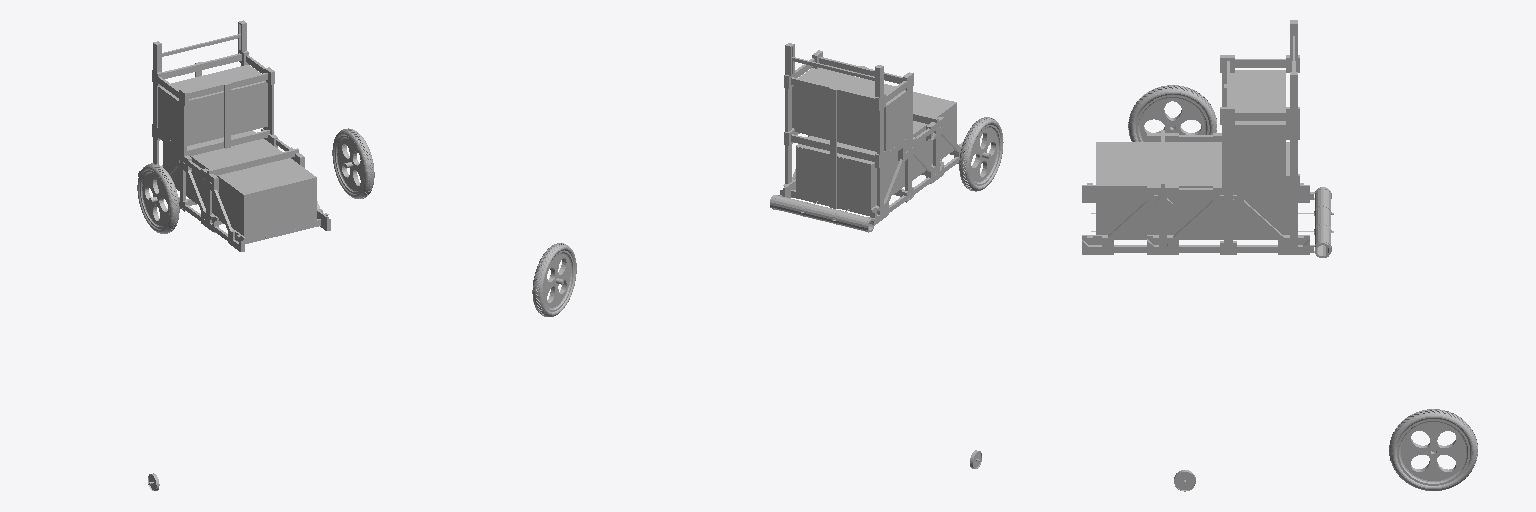
robot.urdf — igv__model:
<?xml version="1.0" encoding="utf-8"?>
<!-- This URDF was automatically created by SolidWorks to URDF Exporter! Originally created by [author] ([email redacted]) 
     Commit Version: 1.5.1-0-g916b5db  Build Version: 1.5.7152.31018
     For more information, please see http://wiki.ros.org/sw_urdf_exporter -->
<robot
  name="igv__model">
  <link
    name="base_link">
    <inertial>
      <origin
        xyz="0.611594942570263 0.901280819914967 0.66978157390554"
        rpy="0 0 0" />
      <mass
        value="53.786996865262" />
      <inertia
        ixx="2.65154052231408"
        ixy="2.74635736940795E-08"
        ixz="3.31822311322078E-08"
        iyy="3.3683116234887"
        iyz="0.00211852268869227"
        izz="1.73267246165109" />
    </inertial>
    <visual>
      <origin
        xyz="0 0 0"
        rpy="0 0 0" />
      <geometry>
        <mesh
          filename="package://igv__model/meshes/base_link.STL" />
      </geometry>
      <material
        name="">
        <color
          rgba="0.752941176470588 0.752941176470588 0.752941176470588 1" />
      </material>
    </visual>
    <collision>
      <origin
        xyz="0 0 0"
        rpy="0 0 0" />
      <geometry>
        <mesh
          filename="package://igv__model/meshes/base_link.STL" />
      </geometry>
    </collision>
  </link>
  <link
    name="wL">
    <inertial>
      <origin
        xyz="-0.000320615714433203 2.66762272949084E-06 2.05391259555654E-15"
        rpy="0 0 0" />
      <mass
        value="4.52967252160995" />
      <inertia
        ixx="0.12384573320679"
        ixy="3.21146348067842E-08"
        ixz="-1.59354057853947E-17"
        iyy="0.0627755197188864"
        iyz="5.26885789082967E-07"
        izz="0.0627755406329626" />
    </inertial>
    <visual>
      <origin
        xyz="0 0 0"
        rpy="0 0 0" />
      <geometry>
        <mesh
          filename="package://igv__model/meshes/wL.STL" />
      </geometry>
      <material
        name="">
        <color
          rgba="0.752941176470588 0.752941176470588 0.752941176470588 1" />
      </material>
    </visual>
    <collision>
      <origin
        xyz="0 0 0"
        rpy="0 0 0" />
      <geometry>
        <mesh
          filename="package://igv__model/meshes/wL.STL" />
      </geometry>
    </collision>
  </link>
  <joint
    name="wL"
    type="revolute">
    <origin
      xyz="0.20862 -0.28297 0.6883"
      rpy="-1.6617 0 3.1416" />
    <parent
      link="base_link" />
    <child
      link="wL" />
    <axis
      xyz="-1 0 0" />
    <limit
      lower="0"
      upper="0"
      effort="0"
      velocity="0" />
  </joint>
  <link
    name="wR">
    <inertial>
      <origin
        xyz="-0.000320615469261432 2.6676200137743E-06 1.4432899320127E-15"
        rpy="0 0 0" />
      <mass
        value="4.52967714432559" />
      <inertia
        ixx="0.123845078210674"
        ixy="3.21146424226112E-08"
        ixz="-2.70080093172368E-16"
        iyy="0.0627751904020829"
        iyz="5.26844366386531E-07"
        izz="0.0627752118408753" />
    </inertial>
    <visual>
      <origin
        xyz="0 0 0"
        rpy="0 0 0" />
      <geometry>
        <mesh
          filename="package://igv__model/meshes/wR.STL" />
      </geometry>
      <material
        name="">
        <color
          rgba="0.752941176470588 0.752941176470588 0.752941176470588 1" />
      </material>
    </visual>
    <collision>
      <origin
        xyz="0 0 0"
        rpy="0 0 0" />
      <geometry>
        <mesh
          filename="package://igv__model/meshes/wR.STL" />
      </geometry>
    </collision>
  </link>
  <joint
    name="wR"
    type="revolute">
    <origin
      xyz="1.0146 -0.28297 0.6883"
      rpy="-2.7498 0 0" />
    <parent
      link="base_link" />
    <child
      link="wR" />
    <axis
      xyz="1 0 0" />
    <limit
      lower="0"
      upper="0"
      effort="0"
      velocity="0" />
  </joint>
  <link
    name="cL">
    <inertial>
      <origin
        xyz="0 0 0"
        rpy="0 0 0" />
      <mass
        value="0.0583079596506267" />
      <inertia
        ixx="8.25510018398484E-05"
        ixy="1.41809747728069E-23"
        ixz="3.24950877890228E-21"
        iyy="4.38191437717807E-05"
        iyz="0"
        izz="4.38191437717808E-05" />
    </inertial>
    <visual>
      <origin
        xyz="0 0 0"
        rpy="0 0 0" />
      <geometry>
        <mesh
          filename="package://igv__model/meshes/cL.STL" />
      </geometry>
      <material
        name="">
        <color
          rgba="0.752941176470588 0.752941176470588 0.752941176470588 1" />
      </material>
    </visual>
    <collision>
      <origin
        xyz="0 0 0"
        rpy="0 0 0" />
      <geometry>
        <mesh
          filename="package://igv__model/meshes/cL.STL" />
      </geometry>
    </collision>
  </link>
  <joint
    name="cL"
    type="revolute">
    <origin
      xyz="0.32162 -1.4653 0.51534"
      rpy="1.5615 0 3.1416" />
    <parent
      link="base_link" />
    <child
      link="cL" />
    <axis
      xyz="0 0 0" />
    <limit
      lower="0"
      upper="0"
      effort="0"
      velocity="0" />
  </joint>
  <link
    name="cR">
    <inertial>
      <origin
        xyz="1.11022302462516E-16 0 2.22044604925031E-16"
        rpy="0 0 0" />
      <mass
        value="0.0583079596506258" />
      <inertia
        ixx="8.25510018398474E-05"
        ixy="-7.40632462136777E-23"
        ixz="-5.70251001731993E-21"
        iyy="4.38191437717802E-05"
        iyz="-2.91167575618666E-22"
        izz="4.38191437717802E-05" />
    </inertial>
    <visual>
      <origin
        xyz="0 0 0"
        rpy="0 0 0" />
      <geometry>
        <mesh
          filename="package://igv__model/meshes/cR.STL" />
      </geometry>
      <material
        name="">
        <color
          rgba="0.752941176470588 0.752941176470588 0.752941176470588 1" />
      </material>
    </visual>
    <collision>
      <origin
        xyz="0 0 0"
        rpy="0 0 0" />
      <geometry>
        <mesh
          filename="package://igv__model/meshes/cR.STL" />
      </geometry>
    </collision>
  </link>
  <joint
    name="cR"
    type="revolute">
    <origin
      xyz="0.90162 -1.4654 0.51534"
      rpy="1.5615 0 3.1416" />
    <parent
      link="base_link" />
    <child
      link="cR" />
    <axis
      xyz="0 0 0" />
    <limit
      lower="0"
      upper="0"
      effort="0"
      velocity="0" />
  </joint>
</robot>

--- Facts derived from the render (not from the file) ---
3 views of the same robot in one strip: view 1: azimuth 30°, elevation 25°; view 2: azimuth 150°, elevation 25°; view 3: azimuth 270°, elevation 25° (orthographic).
Model igv__model with 5 links and 4 joints (4 revolute), rooted at base_link, posed every joint at zero.
Links seen in each view (by area): view 1: base_link, wR, wL; view 2: base_link, wL, wR; view 3: base_link, wR, wL.
Link boxes in pixels (<box>): base_link: <box>138,20,330,251</box>; wR: <box>332,128,374,198</box>; wL: <box>137,163,179,233</box>; base_link: <box>770,43,963,232</box>; wL: <box>959,117,1003,191</box>; wR: <box>532,243,576,316</box>; base_link: <box>1082,20,1333,257</box>; wR: <box>1389,409,1477,490</box>; wL: <box>1128,85,1216,141</box>.
Size in the robot's own frame: 2.12 by 1.88 by 2.6 metres.
Meshes: 5 distinct files referenced, 5 mesh visuals loaded (5 binary STL).